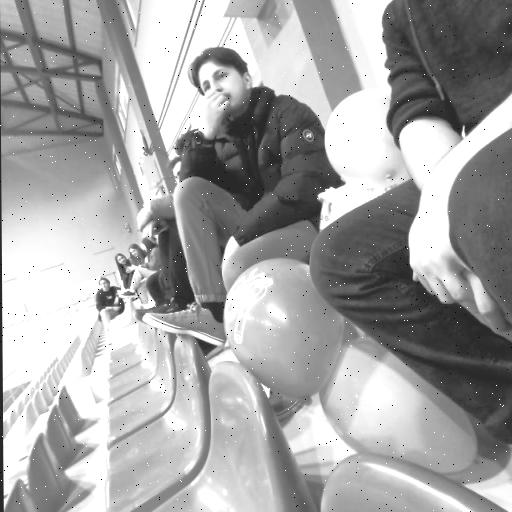balloon: (324, 338, 484, 474), (224, 254, 348, 404), (325, 88, 423, 192)
